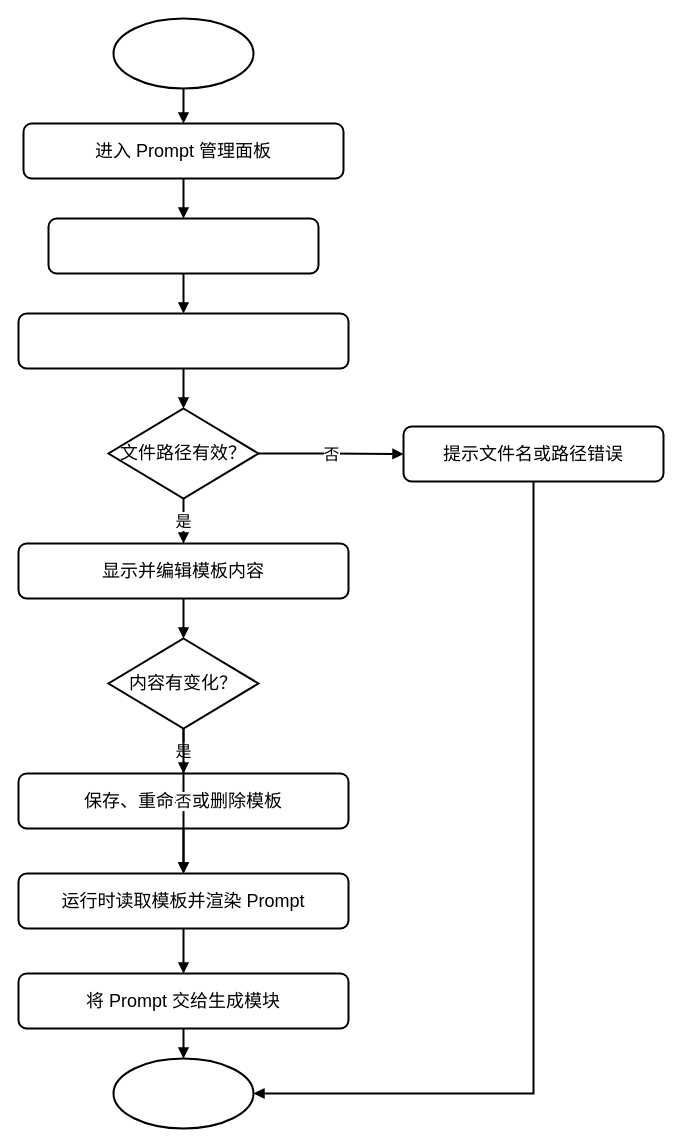
This 681x1146 diagram has some shape labels left out. The box of each missing label's shape, as (x1, y1, x2, y2) in pixels:
加载模板文件列表: (47, 217, 319, 274)
开始: (112, 17, 254, 89)
结束: (112, 1057, 254, 1129)
选择或新建 Jinja 模板: (17, 312, 349, 369)
